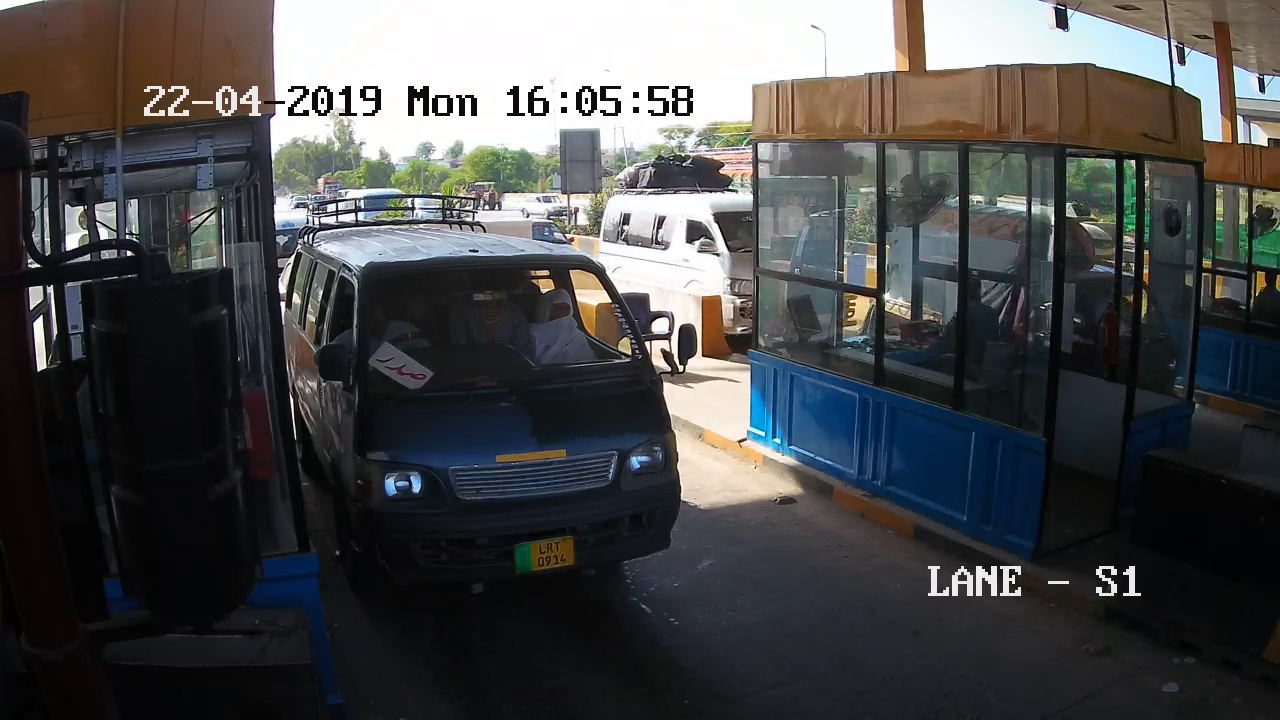Number Plate (Car): (518, 538, 572, 570)
